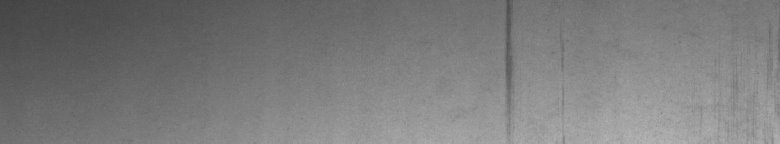hd: (500, 4, 564, 134)
